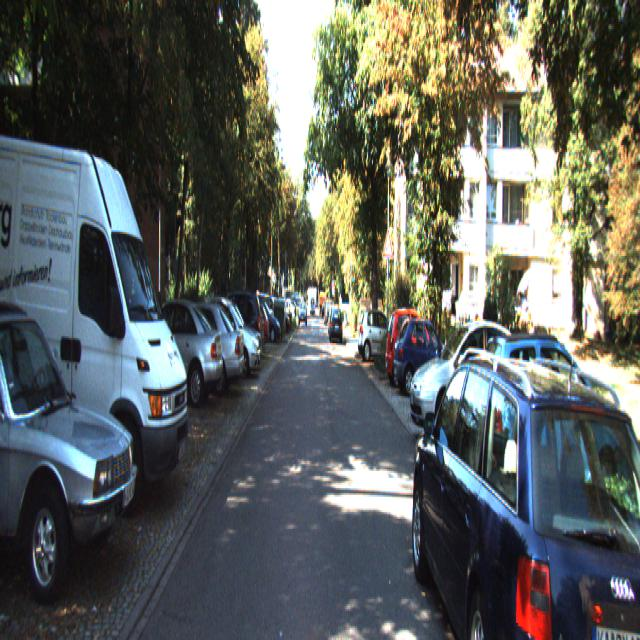Car: (0, 97, 193, 514), (410, 333, 640, 638), (0, 296, 145, 601), (476, 324, 628, 511), (409, 315, 540, 450), (122, 296, 226, 417), (158, 297, 245, 401), (393, 314, 460, 396), (196, 304, 262, 384), (384, 308, 444, 390), (357, 305, 403, 362), (242, 298, 280, 346), (328, 309, 343, 345)
